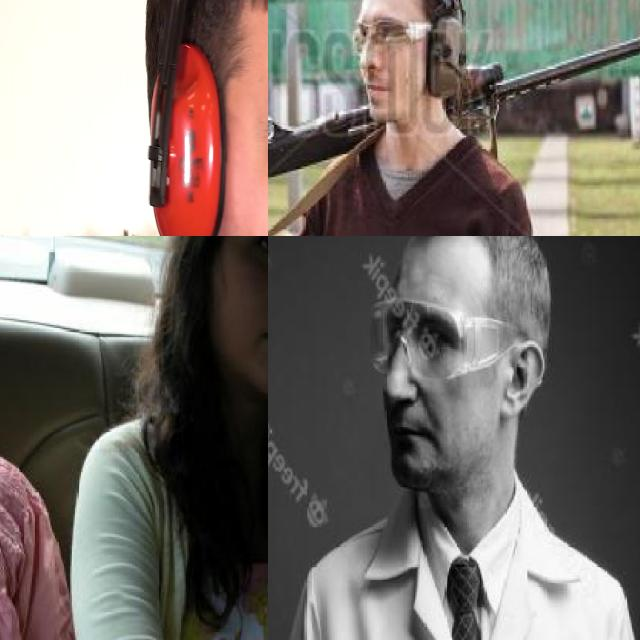Ear-protection: (137, 0, 268, 236)
No_Ear-Protection: (496, 340, 552, 416)
face_nomask: (363, 294, 478, 466), (221, 236, 268, 382), (350, 15, 410, 106)
glasses: (369, 295, 529, 382), (349, 14, 432, 56)
head_nohelmet: (384, 236, 549, 273)
person: (268, 236, 640, 640), (59, 236, 268, 640), (268, 0, 546, 236), (0, 236, 59, 640)
